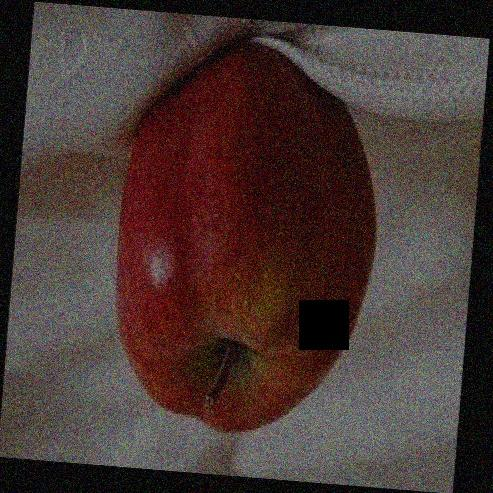red apple: (109, 42, 387, 438)
